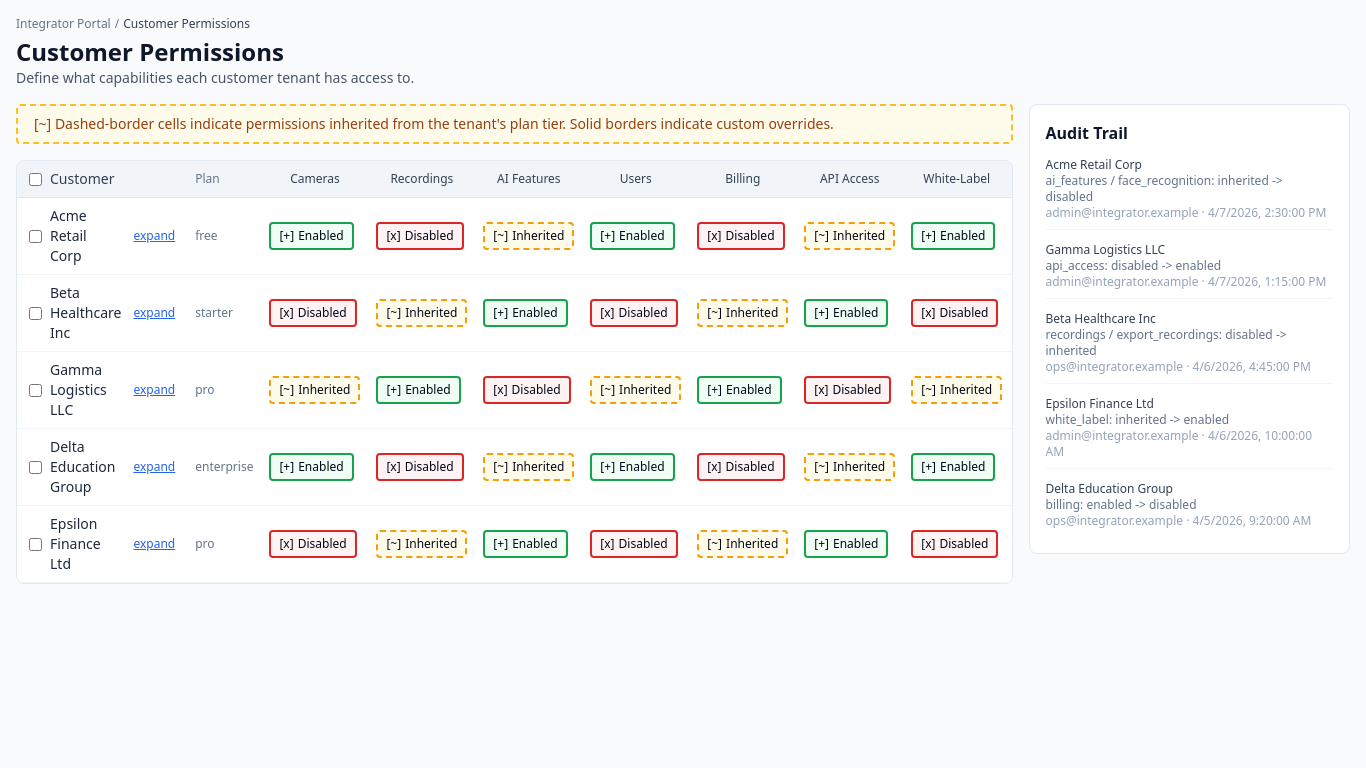
PermissionsPage › shows diff preview dialog on save and can confirm
Expected: the element with test id "permissions-matrix" is shown, [16,160,1012,584]
Expected: the row with test id "tenant-row-cust-integrator-001-000" is shown, [17,198,1012,274]
Click the 1st checkbox labelled "[+] Enabled". click: (312, 236)
box: [269,222,354,250]
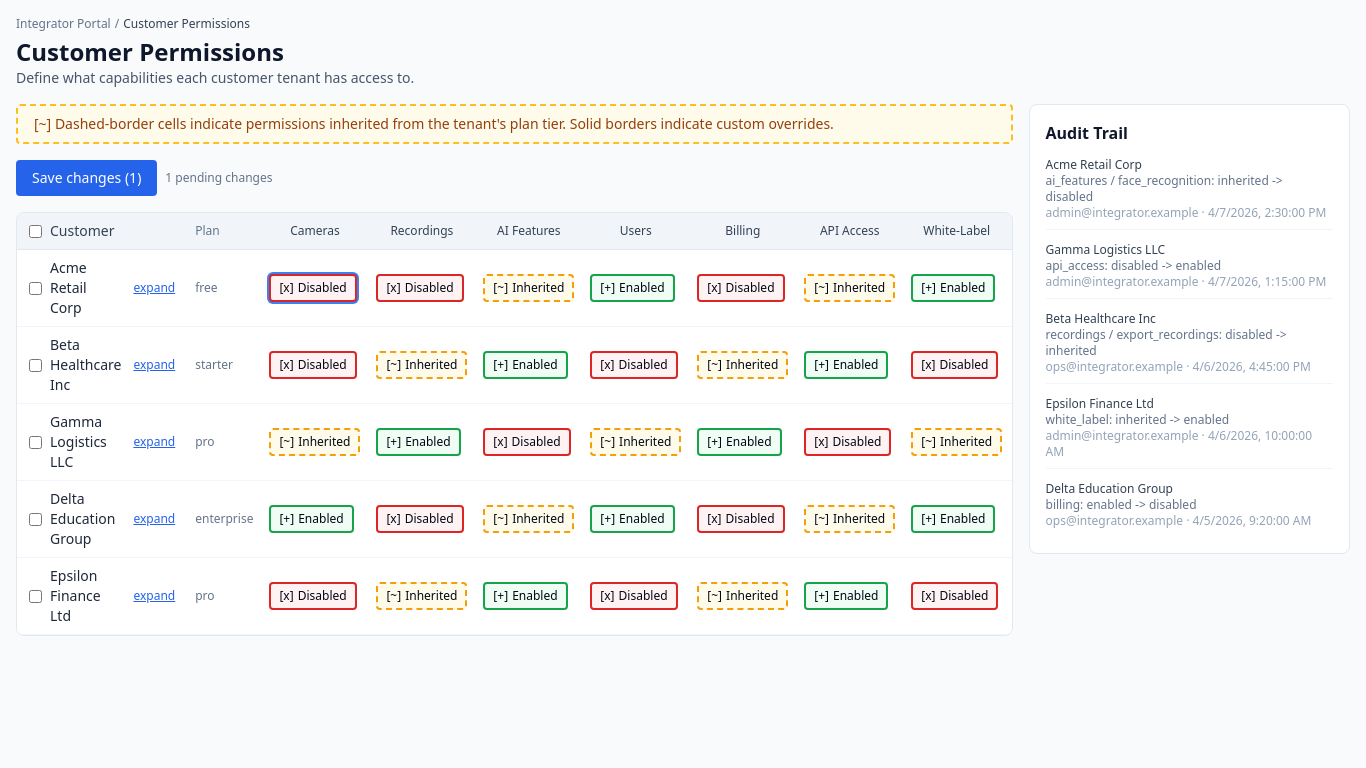
Result: the button with test id "save-button" is shown
Click the button with test id "save-button". click: (87, 178)
box: [16,160,157,196]
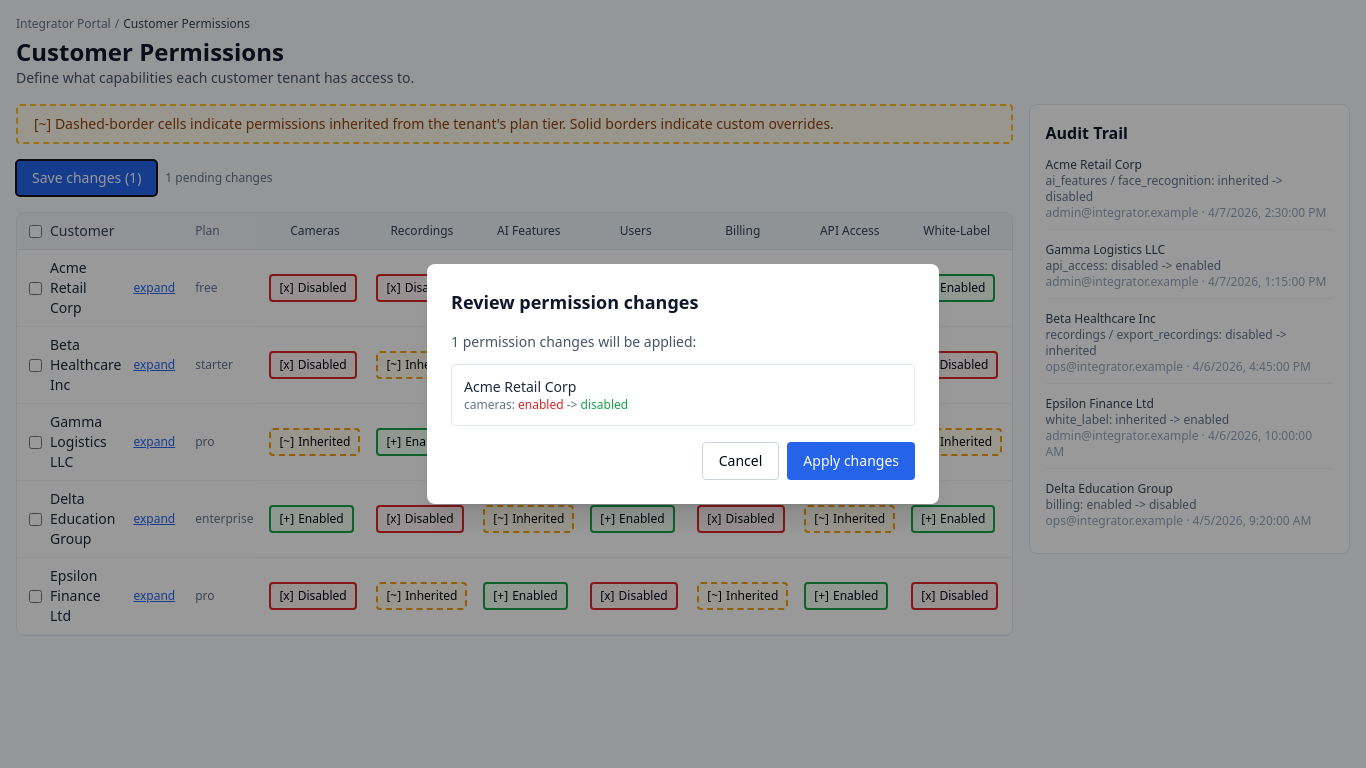
Result: the dialog with test id "diff-preview-dialog" is shown
Result: the element with test id "diff-preview-list" is shown at [451,364,915,426]
Confirm save
Click the button with test id "diff-confirm". click: (851, 461)
box: [787,442,915,480]
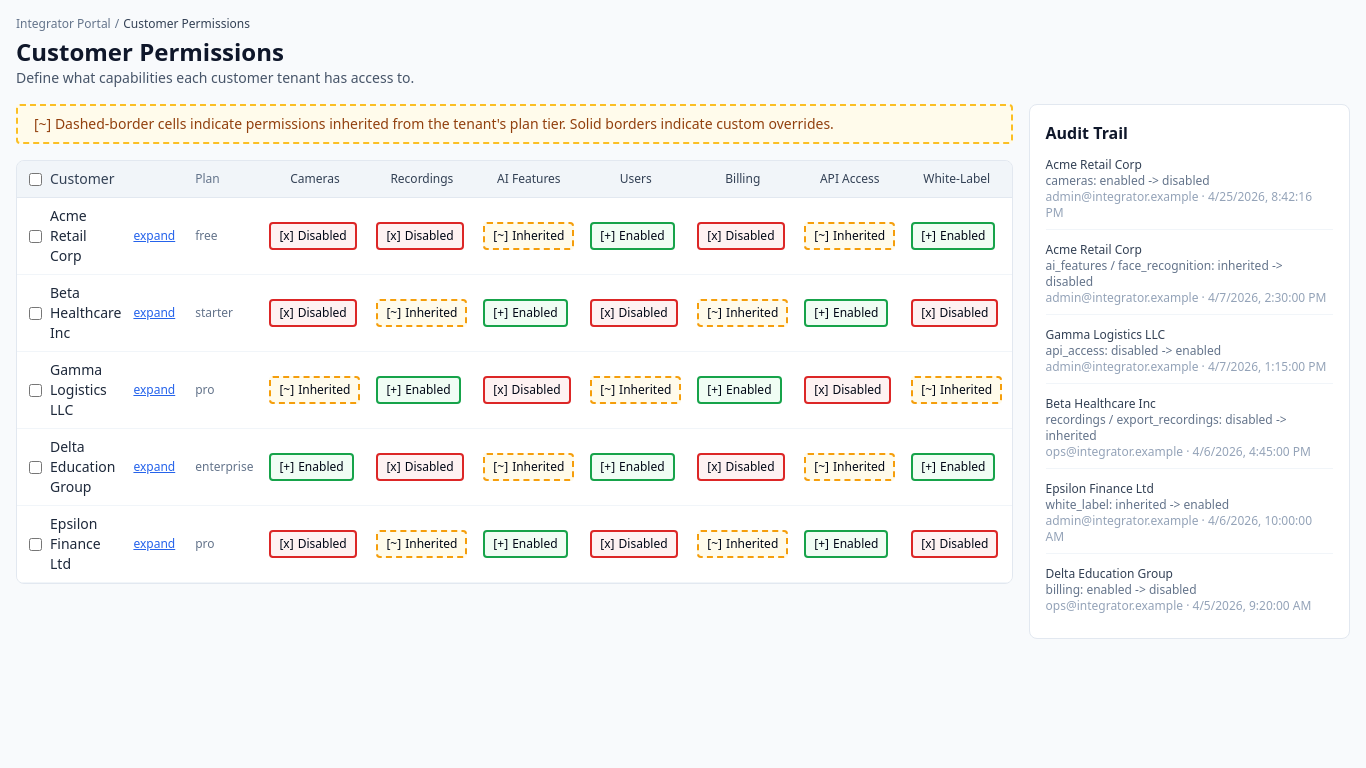
Result: the dialog with test id "diff-preview-dialog" is gone
